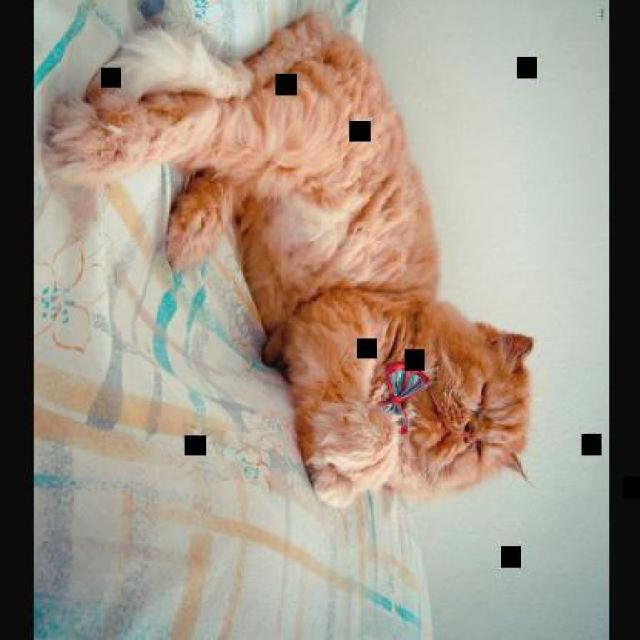unauthorized: (40, 9, 534, 509)
